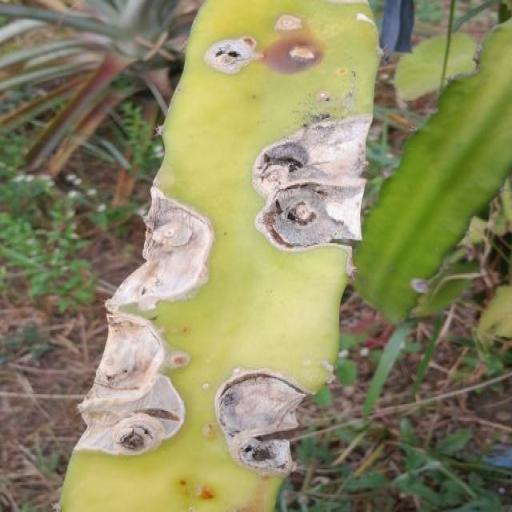stemcanker: (153, 162, 174, 203), (185, 169, 201, 208)
